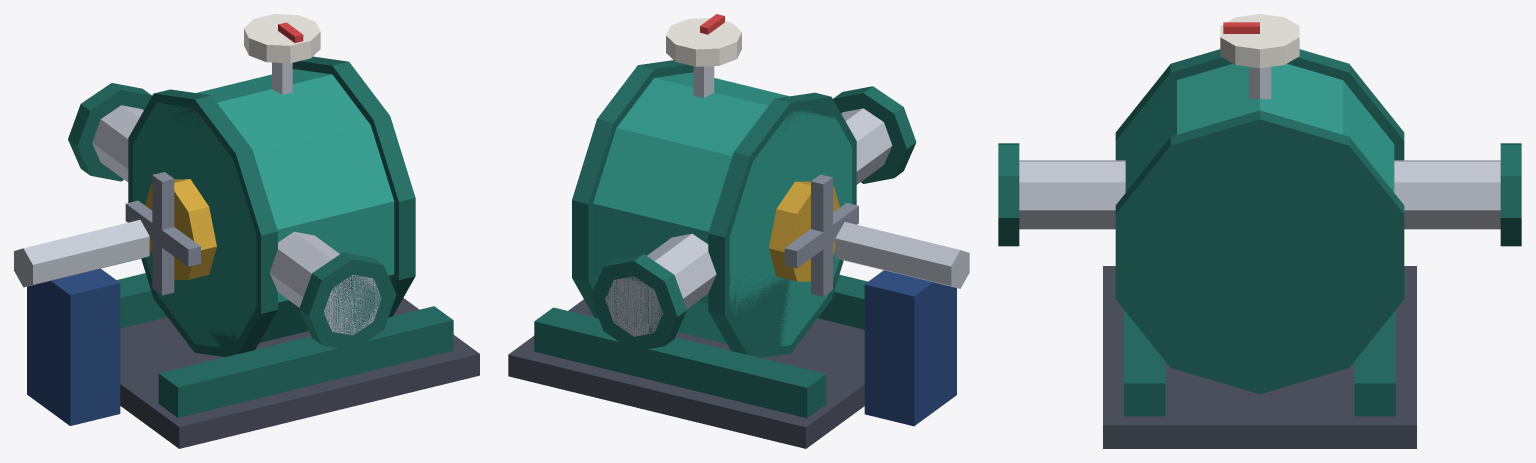
File: pump-left.glb
3 renders of one model, left to right at view 1: azimuth 30°, elevation 25°; view 2: azimuth 150°, elevation 25°; view 3: azimuth 270°, elevation 25°, orthographic. The views are drawn at different scales.
Visible parts, largest first — view 1: pump-left, spin-x; view 2: pump-left, spin-x; view 3: pump-left.
Part boxes in pixels (left/top/right/bottom): pump-left: left=27, top=14, right=479, bottom=448; spin-x: left=14, top=172, right=216, bottom=295; pump-left: left=508, top=14, right=956, bottom=448; spin-x: left=768, top=174, right=969, bottom=296; pump-left: left=998, top=14, right=1521, bottom=448.
Bounding box in the file's own units: 0.92 × 0.755 × 1.
2 materials, 2 textured.
